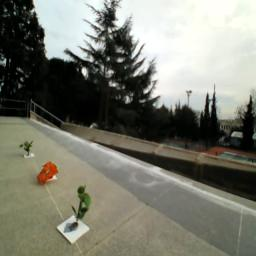herb: (72, 184, 92, 223), (20, 139, 35, 159)
wild: (37, 163, 59, 188)
